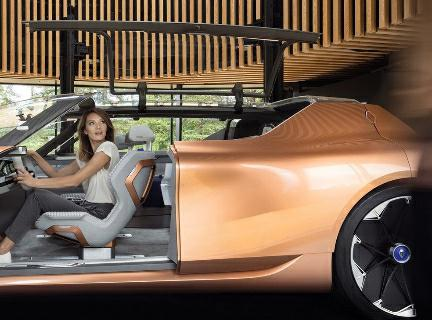雷诺-Symbioz: (2, 82, 425, 302)
